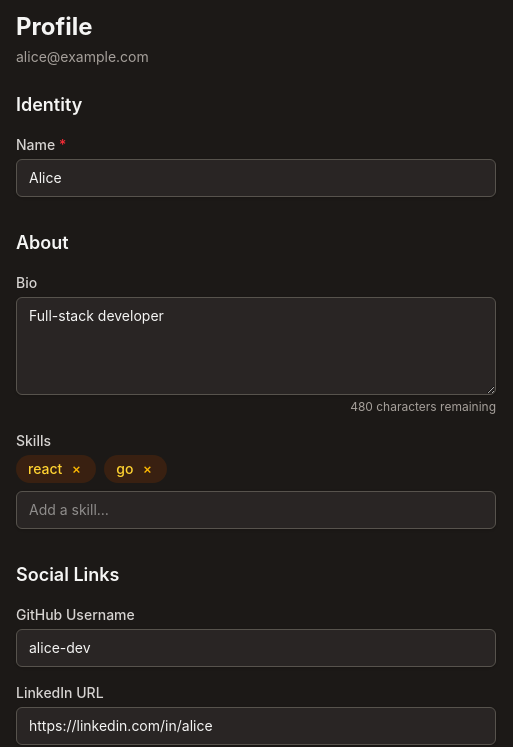
Test: ProfilePage › renders skills as removable tags
Expected: the text "react" is shown, [28,460,62,477]
Click the button named "Remove react".
click(76, 469)  # box [68,461,84,477]
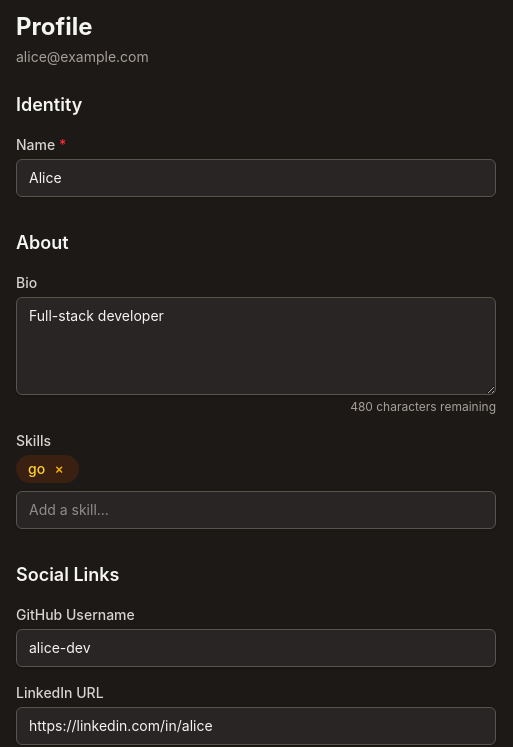
Expected: the text "go" is shown, [28,460,45,477]
Expected: the text "react" is gone
